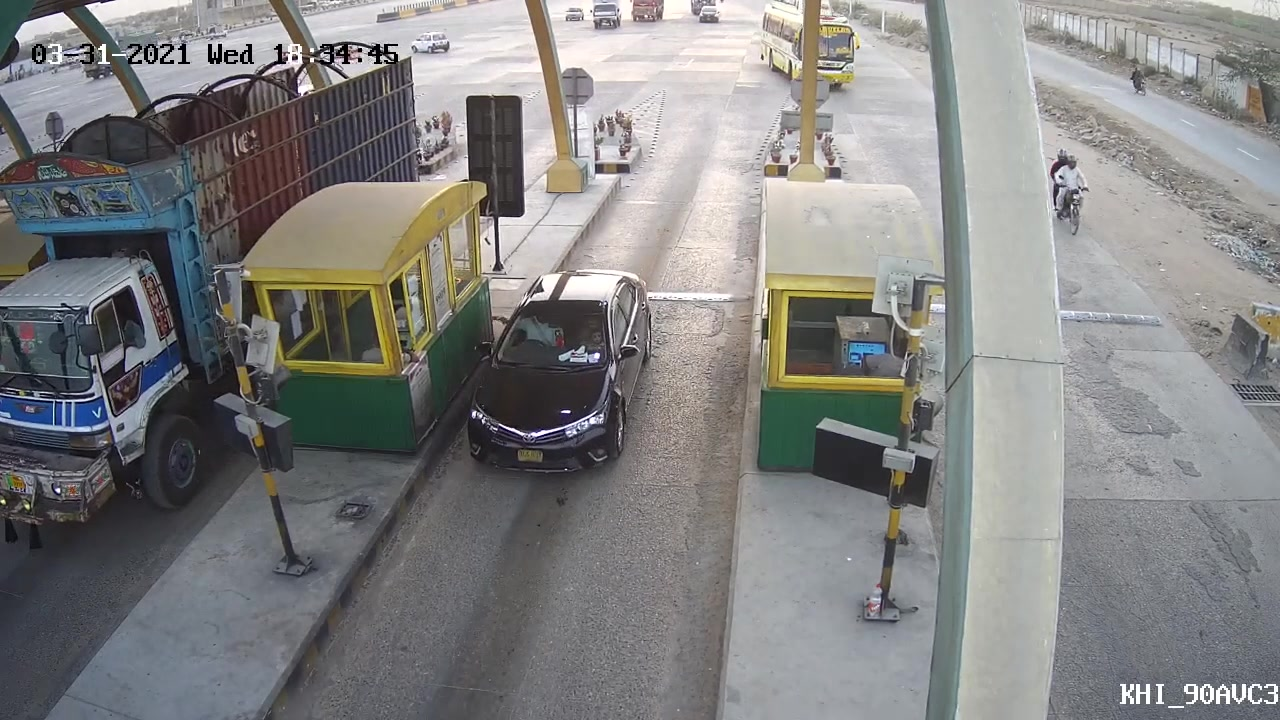F1: (457, 259, 653, 482)
